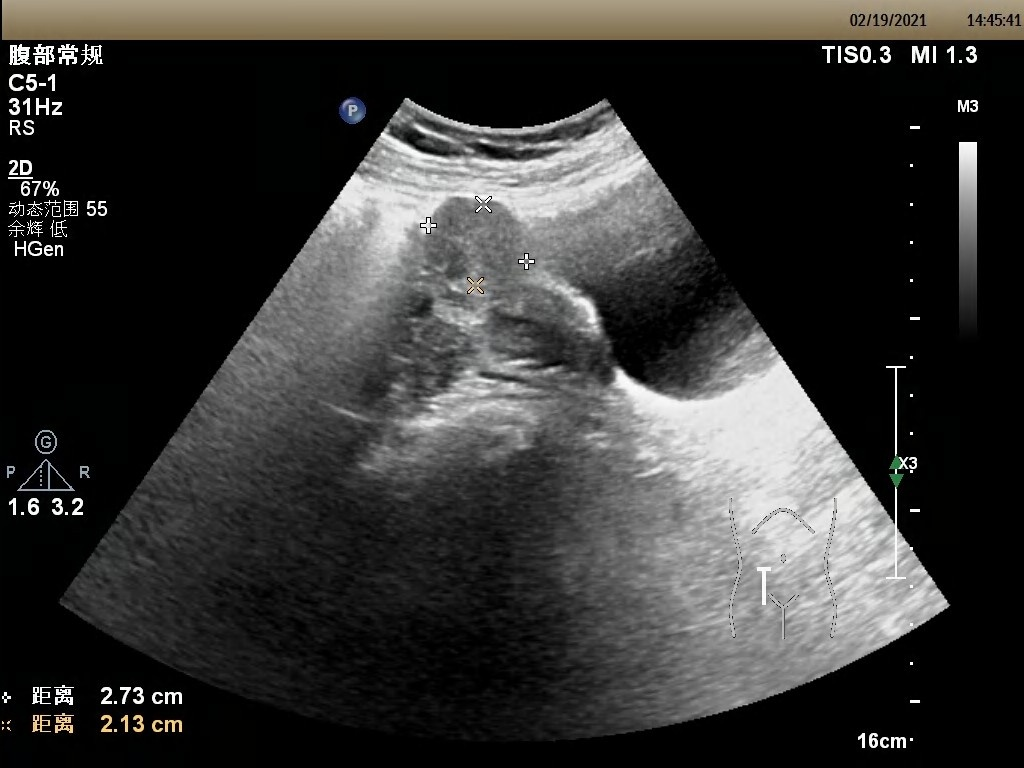肌瘤: (433, 200, 523, 283)
